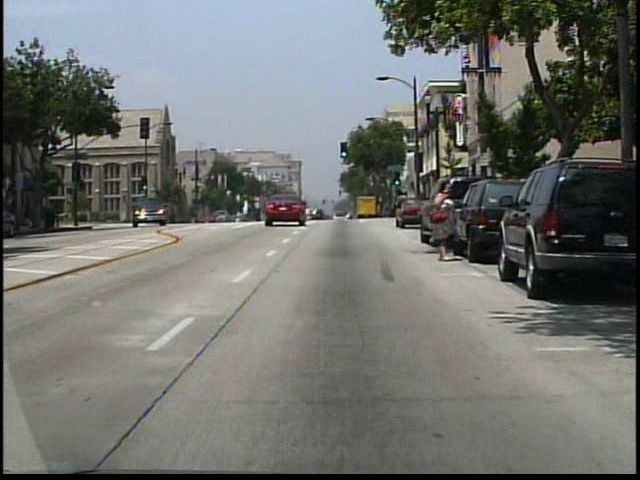person: (426, 180, 467, 264)
